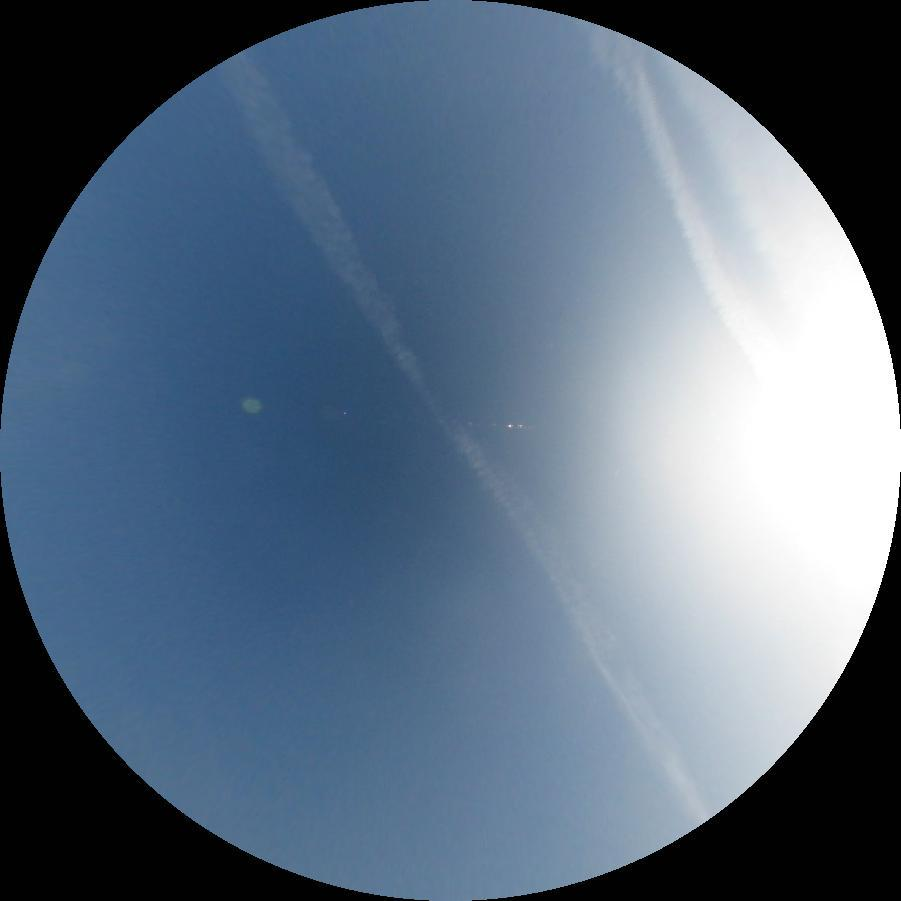contrail veryold: (208, 47, 721, 835), (584, 6, 791, 389), (666, 23, 885, 356)
sun: (741, 373, 900, 565)
